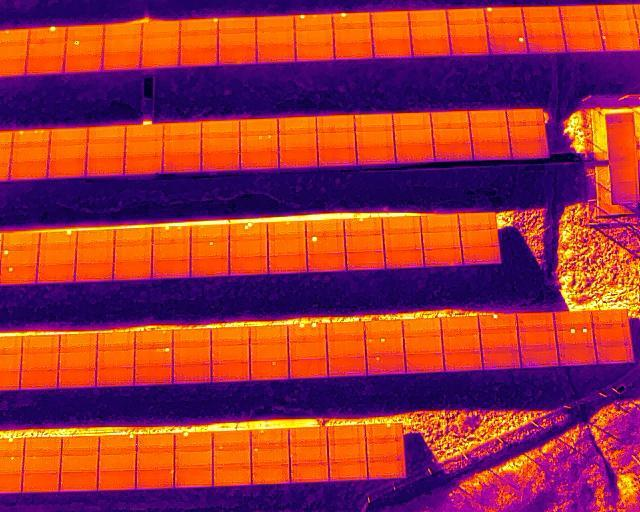Cell: (250, 361, 289, 381), (367, 354, 405, 374), (251, 428, 289, 448), (134, 347, 173, 366), (99, 434, 138, 452), (252, 447, 290, 465), (213, 431, 251, 449), (191, 241, 229, 259), (489, 36, 526, 54), (307, 236, 344, 254), (0, 249, 39, 266), (268, 221, 306, 238), (344, 218, 382, 235), (366, 423, 403, 440), (0, 266, 37, 283), (28, 25, 65, 42), (175, 432, 213, 448), (332, 12, 370, 28), (180, 18, 218, 34), (65, 39, 102, 55), (40, 232, 77, 248), (486, 7, 522, 23), (479, 315, 517, 329)
Cell-Multi: (365, 334, 404, 354), (556, 326, 595, 344), (12, 129, 50, 147), (241, 135, 278, 153), (287, 324, 325, 341), (230, 222, 268, 239), (153, 226, 191, 242), (294, 14, 332, 30)
No-Anomaly: (558, 343, 599, 364), (481, 348, 521, 369), (517, 325, 557, 346), (98, 451, 136, 473), (441, 330, 480, 351), (406, 350, 445, 371), (327, 337, 366, 358), (191, 257, 230, 278), (291, 462, 329, 483), (329, 461, 368, 481), (592, 324, 631, 344), (424, 248, 463, 268), (480, 329, 519, 349), (367, 439, 404, 460), (289, 340, 327, 360), (175, 466, 213, 486), (520, 346, 558, 366), (327, 442, 367, 461), (136, 450, 174, 470), (98, 470, 136, 490), (36, 264, 76, 283), (346, 250, 384, 270), (423, 230, 461, 250), (22, 472, 60, 492), (443, 351, 482, 370), (229, 256, 268, 275), (75, 263, 114, 282), (385, 249, 424, 268), (345, 234, 384, 253), (253, 464, 290, 484), (367, 459, 404, 479), (357, 146, 395, 165), (97, 349, 135, 368), (213, 466, 251, 485), (431, 110, 469, 129), (173, 346, 211, 365), (355, 112, 393, 131), (396, 145, 434, 164), (213, 448, 251, 467), (308, 253, 346, 272), (152, 260, 190, 279), (60, 472, 98, 491), (114, 244, 152, 263), (511, 139, 547, 159), (463, 246, 499, 266), (279, 115, 316, 134), (59, 350, 96, 369), (596, 343, 633, 362), (58, 368, 95, 387), (317, 113, 354, 132), (290, 443, 327, 462), (334, 41, 373, 59), (211, 363, 250, 381), (96, 368, 135, 386), (249, 343, 288, 361), (136, 433, 175, 451), (289, 429, 328, 447), (113, 262, 152, 280), (268, 237, 307, 255), (382, 216, 421, 234), (61, 454, 100, 472), (124, 157, 163, 175), (162, 155, 201, 173), (136, 469, 171, 489), (434, 143, 472, 161), (473, 142, 511, 160), (394, 128, 432, 146), (280, 149, 318, 167), (211, 345, 249, 363), (328, 357, 366, 375), (135, 365, 173, 383), (22, 352, 58, 371), (50, 128, 88, 146), (241, 151, 279, 169), (175, 449, 213, 467), (268, 255, 306, 273), (385, 232, 423, 250), (153, 242, 191, 260), (77, 246, 115, 264), (230, 239, 268, 257), (461, 229, 497, 248), (25, 58, 65, 75), (413, 38, 450, 56), (290, 359, 327, 377), (393, 111, 430, 129), (181, 48, 218, 66), (60, 333, 97, 351), (24, 438, 61, 456), (211, 328, 248, 346), (468, 109, 507, 126), (374, 41, 413, 58), (404, 335, 443, 352), (141, 51, 180, 68), (317, 132, 356, 149), (201, 153, 240, 170), (527, 36, 566, 53), (249, 326, 288, 343), (21, 370, 57, 388), (471, 126, 509, 143), (295, 44, 333, 61), (318, 149, 356, 166), (218, 47, 256, 64), (450, 38, 488, 55), (257, 46, 295, 63), (62, 437, 100, 454), (39, 247, 77, 264), (421, 215, 459, 232), (600, 18, 638, 35), (134, 331, 172, 348), (173, 330, 211, 347), (66, 55, 103, 72), (88, 126, 125, 143), (240, 118, 277, 135), (566, 35, 603, 52), (125, 140, 162, 157), (163, 122, 200, 139), (103, 53, 140, 70), (447, 7, 484, 24), (87, 157, 124, 174), (49, 160, 86, 177), (24, 455, 61, 472), (141, 35, 180, 51), (202, 137, 241, 153), (516, 311, 555, 327), (402, 319, 441, 335), (77, 230, 116, 246), (191, 225, 230, 241), (448, 22, 487, 38), (459, 213, 495, 230), (218, 32, 256, 48), (11, 147, 49, 163), (279, 134, 317, 150), (163, 139, 201, 155), (180, 33, 218, 49), (327, 425, 365, 441), (522, 7, 560, 23), (1, 233, 39, 249), (257, 15, 295, 31), (257, 31, 295, 47), (371, 25, 409, 41), (218, 16, 256, 32), (433, 128, 470, 144), (173, 365, 210, 381), (97, 333, 134, 349), (125, 125, 162, 141), (525, 22, 562, 38), (201, 122, 240, 137), (553, 311, 592, 326), (369, 11, 408, 26), (295, 30, 334, 45), (66, 25, 105, 40), (23, 336, 59, 352), (604, 35, 640, 51), (509, 124, 545, 140), (507, 108, 543, 124), (27, 43, 65, 58), (356, 132, 394, 147), (560, 6, 598, 21), (409, 9, 447, 24), (364, 320, 402, 335), (115, 229, 153, 244), (333, 28, 371, 43), (562, 21, 600, 36), (410, 24, 448, 39), (104, 38, 141, 53), (87, 143, 124, 158), (598, 5, 635, 20), (11, 163, 48, 178), (307, 221, 344, 236), (104, 24, 141, 39), (488, 23, 524, 38), (591, 311, 629, 325), (50, 146, 87, 160), (326, 323, 364, 336), (440, 317, 478, 330), (141, 23, 179, 36)
